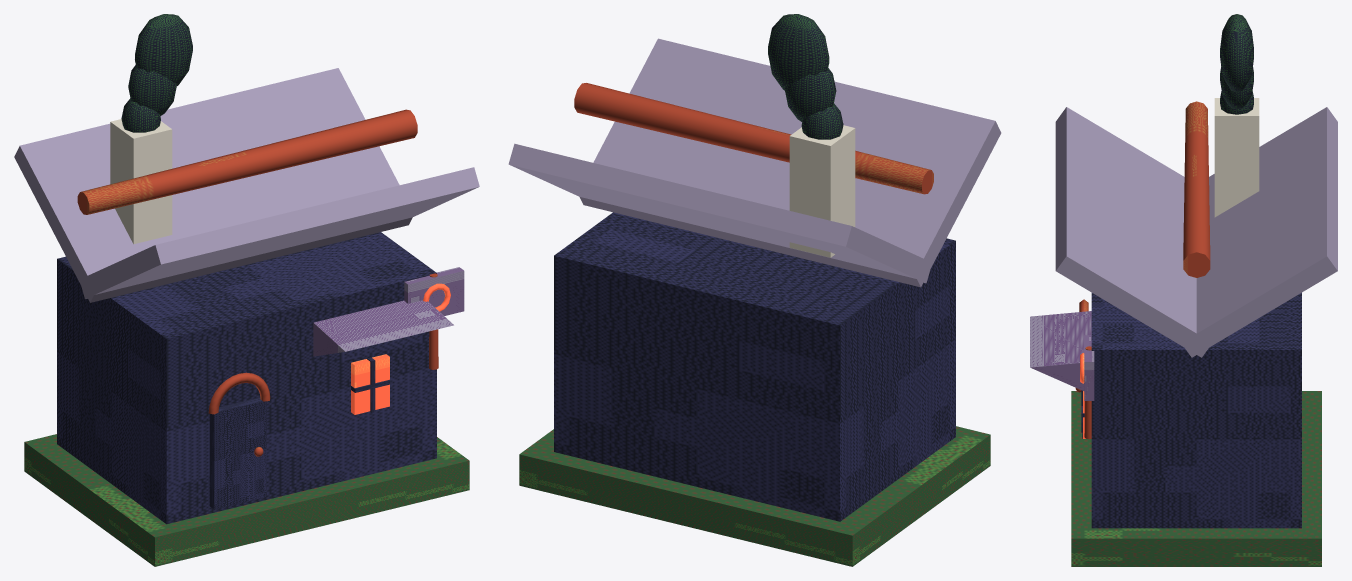
The model's file is batiment-taverne.glb.
The picture shows the model from 3 angles, left to right: view 1: azimuth 30°, elevation 25°; view 2: azimuth 150°, elevation 25°; view 3: azimuth 270°, elevation 25°; orthographic projection. The views are drawn at different scales.
Visible parts, largest first — view 1: House, RoofBack, Foundation, RoofFront, RoofRidge, TavernDoor, Chimney, PurpleAwning, Smoke2, Sign, TavernWindow, Smoke1 (+2 smaller); view 2: House, RoofFront, Foundation, RoofBack, RoofRidge, Chimney, Smoke2, Smoke1, Smoke0; view 3: House, RoofFront, RoofBack, Foundation, Chimney, RoofRidge, PurpleAwning, Smoke2, Smoke1, Sign.
Part boxes in pixels (box(x1,y1,x2,y2)): House: box(57, 232, 436, 524); RoofBack: box(14, 68, 412, 302); Foundation: box(24, 434, 469, 566); RoofFront: box(79, 167, 479, 298); RoofRidge: box(77, 109, 417, 214); TavernDoor: box(209, 397, 266, 509); Chimney: box(110, 119, 172, 244); PurpleAwning: box(313, 300, 453, 356); Smoke2: box(135, 14, 192, 85); Sign: box(404, 267, 464, 315); TavernWindow: box(351, 354, 389, 414); Smoke1: box(128, 65, 176, 115); House: box(554, 212, 955, 521); RoofFront: box(579, 38, 1001, 287); Foundation: box(519, 426, 990, 566); RoofBack: box(508, 143, 930, 283); RoofRidge: box(574, 83, 933, 194); Chimney: box(789, 125, 855, 257); Smoke2: box(768, 14, 829, 90); Smoke1: box(784, 68, 836, 121); Smoke0: box(801, 103, 843, 139); House: box(1091, 292, 1301, 528); RoofFront: box(1055, 107, 1212, 357); RoofBack: box(1181, 107, 1337, 357); Foundation: box(1071, 391, 1321, 566); Chimney: box(1214, 98, 1259, 217); RoofRidge: box(1183, 101, 1210, 277); PurpleAwning: box(1030, 311, 1091, 390); Smoke2: box(1220, 14, 1253, 92); Smoke1: box(1220, 66, 1253, 108); Sign: box(1084, 335, 1094, 400).
Size of the model in its own units: 3.52 by 4.8 by 2.99.
4 materials, 4 textured.
